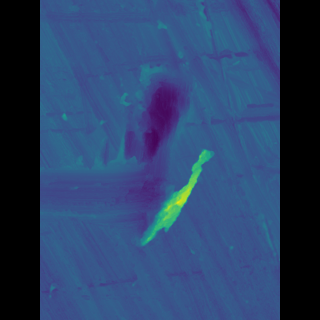Loch: (117, 49, 194, 252)
